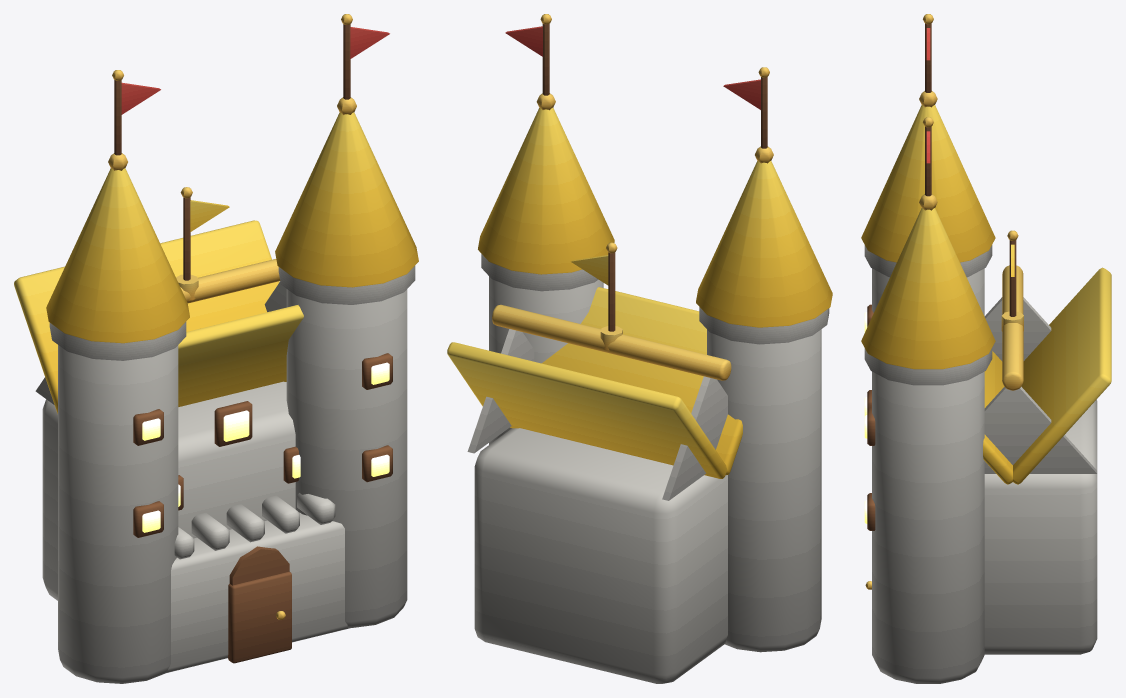
Rendered from castleY.glb.
3 renders of one model, left to right at view 1: azimuth 30°, elevation 25°; view 2: azimuth 150°, elevation 25°; view 3: azimuth 270°, elevation 25°, orthographic. The views are drawn at different scales.
Visible parts, largest first — view 1: castleY; view 2: castleY; view 3: castleY.
Part boxes in pixels (x1,y1,x2,y2): castleY: (14,14,418,683); castleY: (447,14,832,683); castleY: (861,14,1111,683).
Size of the model in its own units: 2 by 3.22 by 1.33.
1 material, 1 textured.
